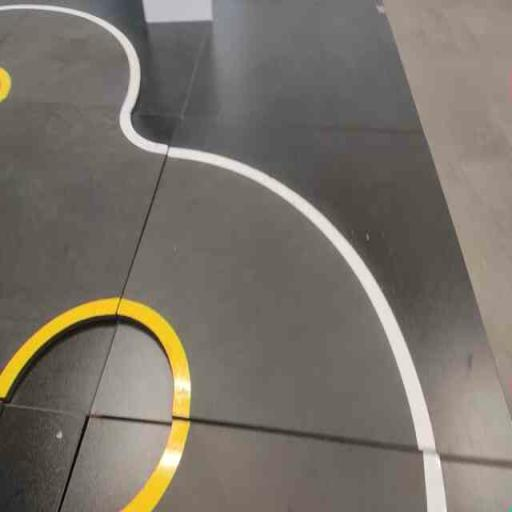left: (88, 140, 455, 454)
